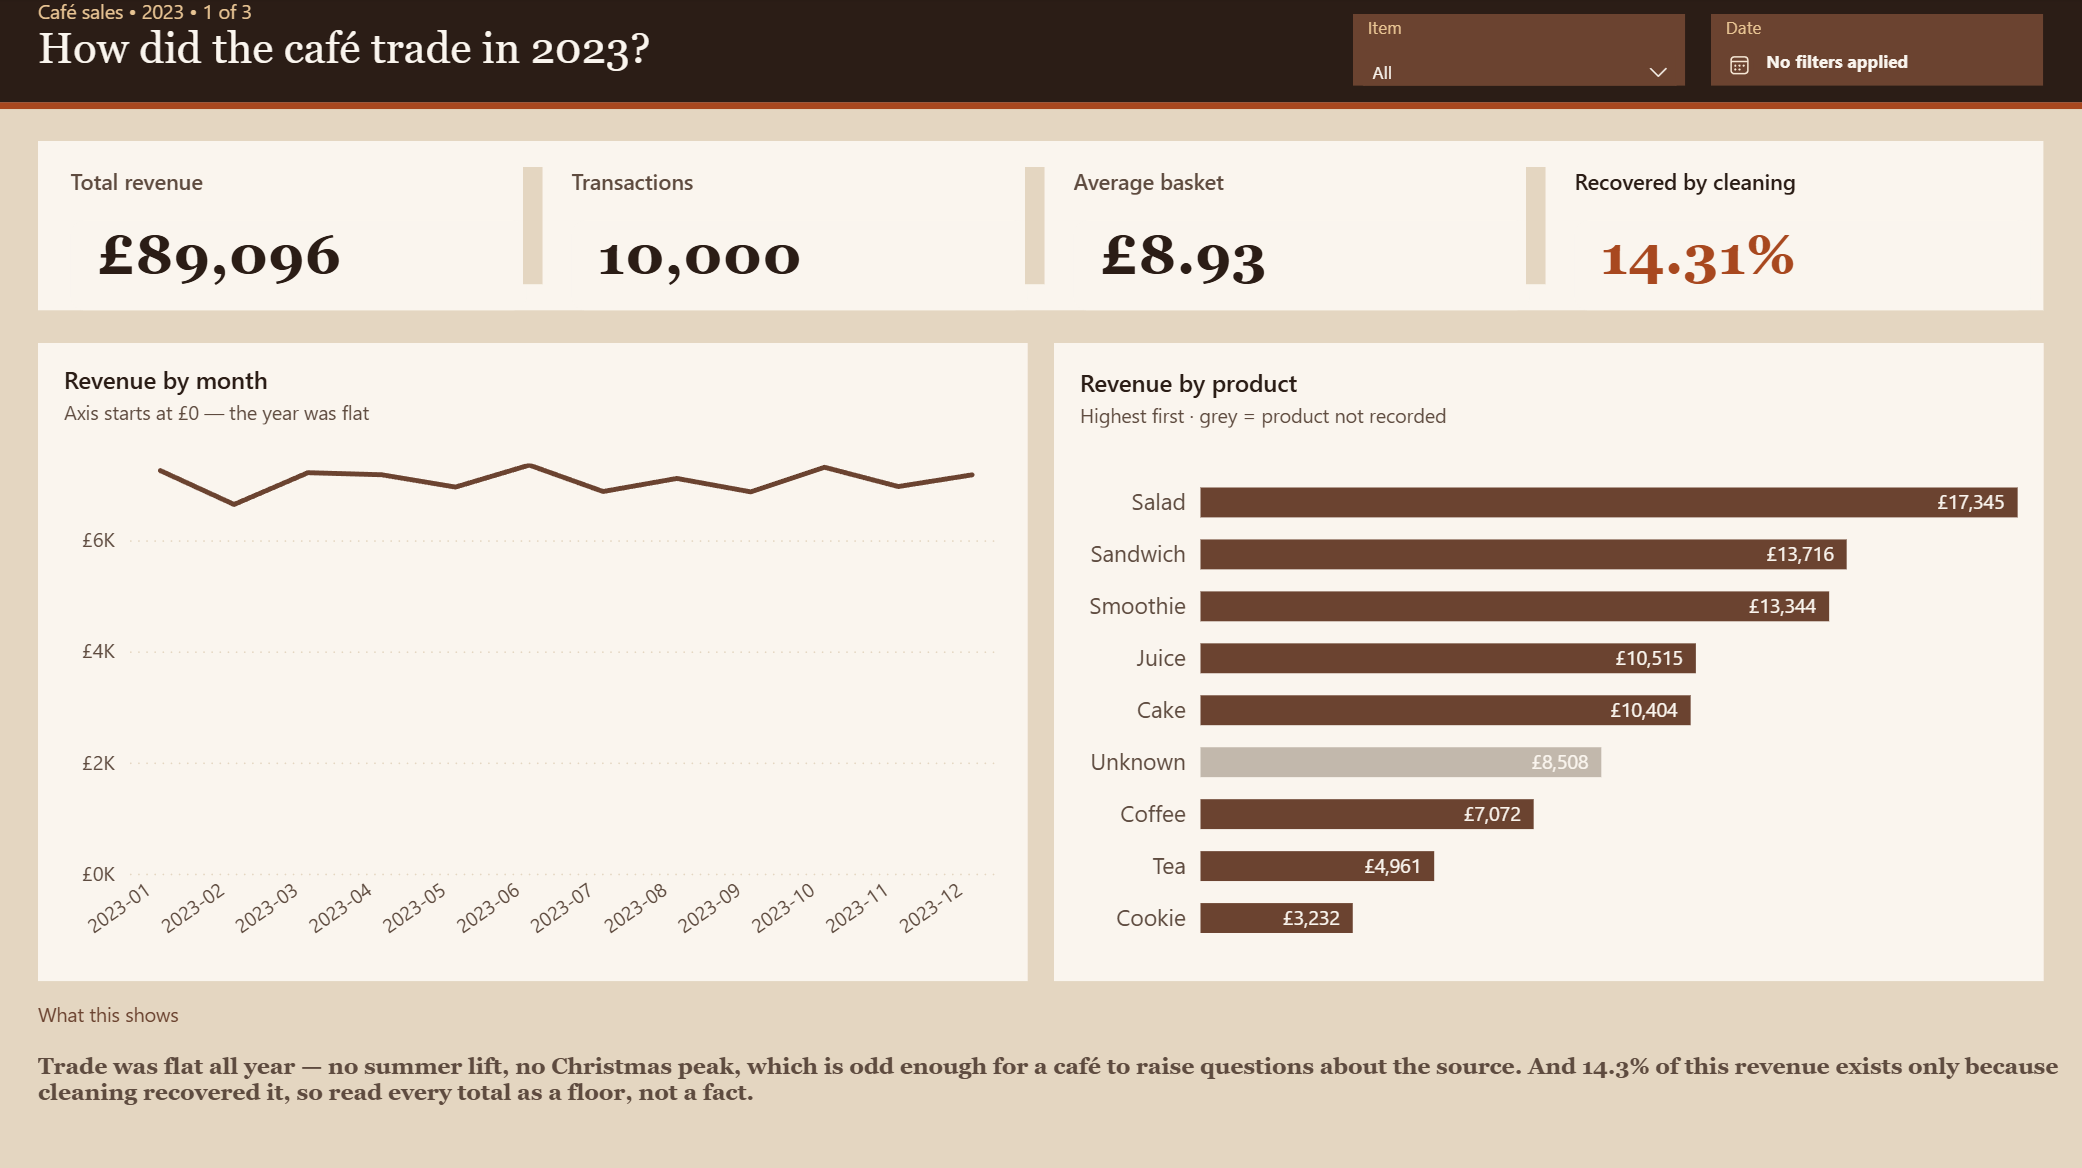

What the dashboard file says about the page in this screenshot:
{"tool":"powerbi","page":{"name":" 1","canvas":[1280,720],"ordinal":0},"visuals":[{"type":"textbox","title":"clue","box":[24,616,1256,88],"z":0},{"type":"clusteredBarChart","title":"Revenue by product","fields":{"Category":["cafe_project dim_item.ITEM"],"Y":["_Measures.Total Revenue"]},"box":[648,212,608,392],"z":1000},{"type":"shape","title":"bg-kpi-strip","box":[24,88,1232,104],"z":2000},{"type":"lineChart","title":"Revenue by month","fields":{"Category":["Dates.Year-Month"],"Y":["_Measures.Total Revenue"]},"box":[24,212,608,392],"z":3000},{"type":"cardVisual","title":"Recovered by cleaning","fields":{"Data":["_Measures.Recovered %"]},"box":[948,88,300,104],"z":4000},{"type":"cardVisual","title":"Average basket","fields":{"Data":["_Measures.Avg Basket"]},"box":[640,88,300,104],"z":5000},{"type":"cardVisual","title":"Transactions","fields":{"Data":["_Measures.Transactions"]},"box":[332,88,300,104],"z":6000},{"type":"cardVisual","title":"Total revenue","fields":{"Data":["_Measures.Total Revenue"]},"box":[24,88,300,104],"z":7000},{"type":"shape","title":"bar-header-rule","box":[0,52,1280,16],"z":8000},{"type":"shape","title":"bar-header-bg","box":[0,0,1280,64],"z":9000},{"type":"slicer","title":"Item Filter","fields":{"Values":["cafe_project dim_item.ITEM"]},"box":[832,10,204,44],"z":10000},{"type":"textbox","title":"bar-header-text","box":[24,0,760,64],"z":11000},{"type":"shape","title":"\tdivider-1","box":[322,104,12,72],"z":12000},{"type":"shape","title":"divider-2","box":[630,104,12,72],"z":13000},{"type":"shape","title":"\tdivider-3","box":[938,104,12,72],"z":14000},{"type":"slicer","title":"Date Picker","fields":{"Values":["Dates.Date"]},"box":[1052,10,204,44],"z":15000}]}

Visuals, with their boxes in screenshot pixels (x1, y1, x2, y2), scaled from the page's 1280x720 canvas onto the 2082x1168 screenshot:
"clue" textbox: (x1=39, y1=999, x2=2081, y2=1142)
"Revenue by product" clusteredBarChart: (x1=1054, y1=344, x2=2043, y2=980)
"bg-kpi-strip" shape: (x1=39, y1=143, x2=2043, y2=311)
"Revenue by month" lineChart: (x1=39, y1=344, x2=1028, y2=980)
"Recovered by cleaning" cardVisual: (x1=1542, y1=143, x2=2030, y2=311)
"Average basket" cardVisual: (x1=1041, y1=143, x2=1529, y2=311)
"Transactions" cardVisual: (x1=540, y1=143, x2=1028, y2=311)
"Total revenue" cardVisual: (x1=39, y1=143, x2=527, y2=311)
"bar-header-rule" shape: (x1=0, y1=84, x2=2081, y2=110)
"bar-header-bg" shape: (x1=0, y1=0, x2=2081, y2=104)
"Item Filter" slicer: (x1=1353, y1=16, x2=1685, y2=88)
"bar-header-text" textbox: (x1=39, y1=0, x2=1275, y2=104)
"	divider-1" shape: (x1=524, y1=169, x2=543, y2=286)
"divider-2" shape: (x1=1025, y1=169, x2=1044, y2=286)
"	divider-3" shape: (x1=1526, y1=169, x2=1545, y2=286)
"Date Picker" slicer: (x1=1711, y1=16, x2=2043, y2=88)
